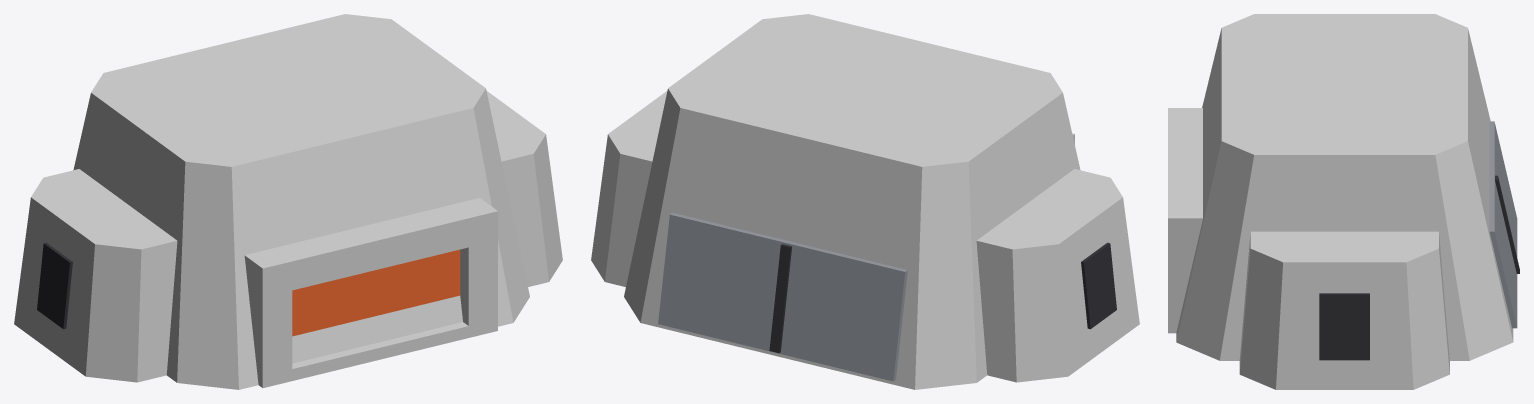
Rendered from crematorium.obj.
3 renders of one model, left to right at view 1: azimuth 30°, elevation 25°; view 2: azimuth 150°, elevation 25°; view 3: azimuth 270°, elevation 25°, orthographic. The views are drawn at different scales.
Parts seen in each view (by area): view 1: crematorium_0, crematorium_1, crematorium_7, crematorium_9, crematorium_3, crematorium_5, crematorium_6, crematorium_8, crematorium_2; view 2: crematorium_0, crematorium_10, crematorium_1, crematorium_3, crematorium_2, crematorium_11; view 3: crematorium_0, crematorium_3, crematorium_7, crematorium_4, crematorium_10, crematorium_6, crematorium_5, crematorium_11.
Boxes of the visible parts, x1,y1,x2,y2 form: crematorium_0: (73, 14, 529, 389); crematorium_1: (14, 169, 177, 382); crematorium_7: (245, 199, 497, 296); crematorium_9: (292, 249, 460, 336); crematorium_3: (486, 91, 562, 286); crematorium_5: (244, 248, 292, 387); crematorium_6: (451, 198, 497, 337); crematorium_8: (257, 322, 497, 387); crematorium_2: (37, 242, 72, 329); crematorium_0: (624, 14, 1080, 389); crematorium_10: (658, 212, 907, 381); crematorium_1: (976, 169, 1139, 382); crematorium_3: (591, 91, 667, 286); crematorium_2: (1081, 242, 1116, 329); crematorium_11: (769, 244, 791, 353); crematorium_0: (1176, 14, 1513, 360); crematorium_3: (1239, 231, 1449, 389); crematorium_7: (1168, 108, 1202, 246); crematorium_4: (1319, 293, 1369, 360); crematorium_10: (1489, 121, 1517, 328); crematorium_6: (1168, 207, 1202, 333); crematorium_5: (1168, 108, 1202, 121); crematorium_11: (1495, 175, 1519, 273).
Size of the model in its own units: 2.92 by 1.18 by 1.94.
